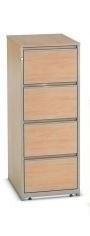cabinet_door: (24, 49, 78, 83), (24, 124, 78, 158), (25, 159, 77, 192), (24, 86, 76, 118)
